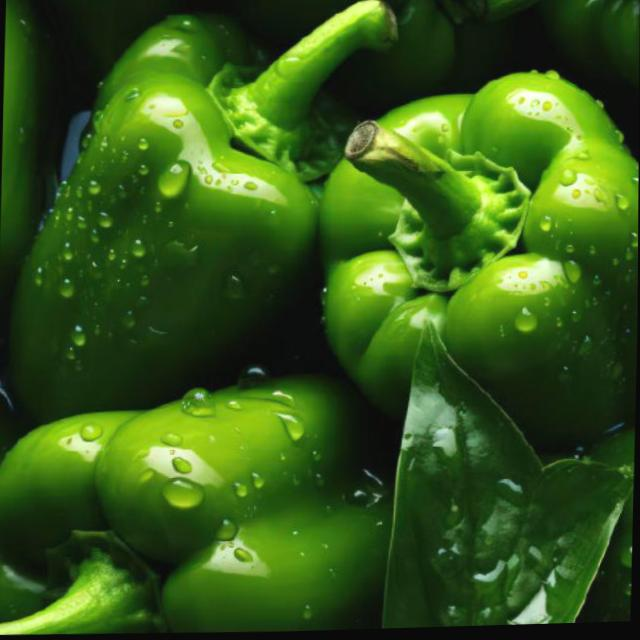Capsicum: (0, 0, 397, 416), (313, 73, 639, 438), (0, 369, 395, 640)
